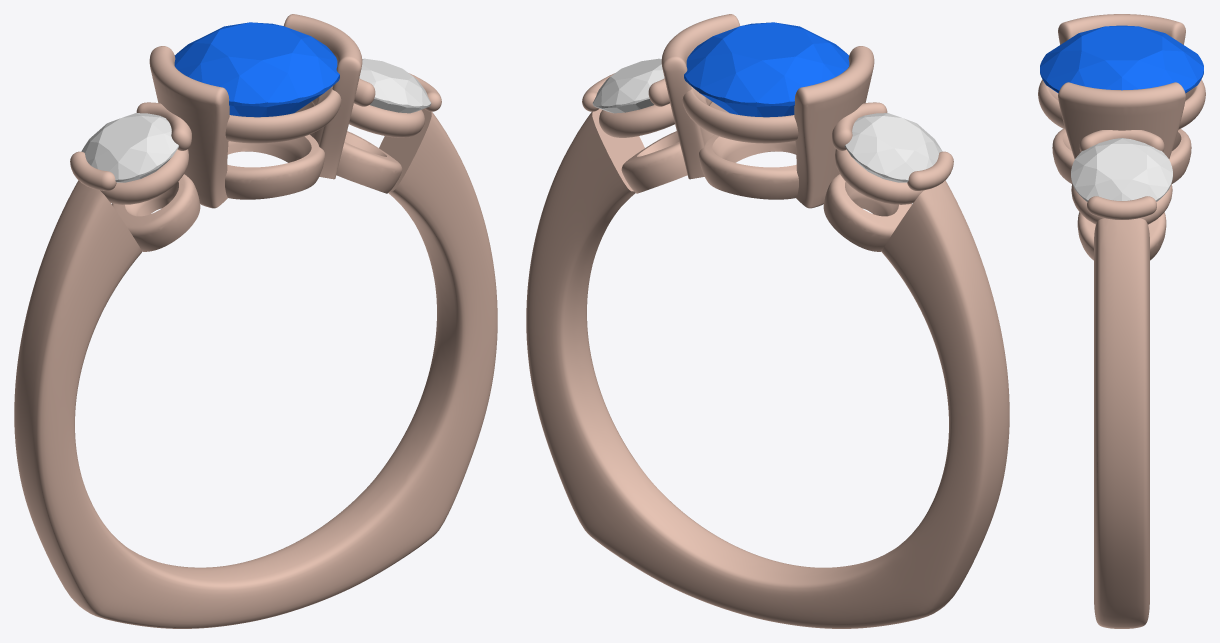
File: bluesapphire-round-rosegold-halfmoonbezel-europeanshank-2stone.glb
3 views of the same model, side by side, from view 1: azimuth 30°, elevation 25°; view 2: azimuth 150°, elevation 25°; view 3: azimuth 270°, elevation 25° (orthographic). The views are drawn at different scales.
Parts seen in each view (by area): view 1: metal, stone, side.001, side; view 2: metal, stone, side.001, side; view 3: metal, stone, side.
Boxes of the visible parts, box(x1,y1,x2,y2) form: metal: box(14, 14, 497, 628); stone: box(174, 22, 339, 117); side.001: box(81, 113, 178, 182); side: box(359, 58, 431, 113); metal: box(526, 14, 1009, 628); stone: box(684, 22, 849, 117); side.001: box(844, 113, 942, 182); side: box(592, 58, 664, 113); metal: box(1038, 14, 1205, 628); stone: box(1040, 25, 1203, 93); side: box(1071, 138, 1172, 201).
Bounding box in the file's own units: 20.11 × 23.61 × 6.58.
